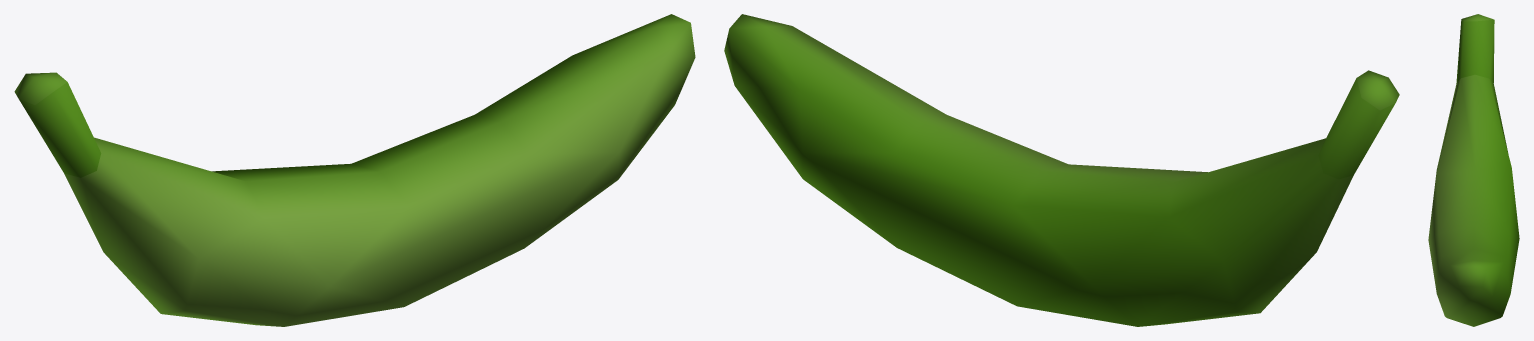
File: bananagreen.glb
The picture shows the model from 3 angles, left to right: view 1: azimuth 30°, elevation 25°; view 2: azimuth 150°, elevation 25°; view 3: azimuth 270°, elevation 25°; orthographic projection. The views are drawn at different scales.
Visible parts, largest first — view 1: bananagreen; view 2: bananagreen; view 3: bananagreen.
Boxes of the visible parts, left/top/right/bottom form: bananagreen: left=14, top=14, right=695, bottom=326; bananagreen: left=724, top=14, right=1399, bottom=326; bananagreen: left=1428, top=14, right=1519, bottom=326.
Size of the model in its own units: 0.6189 by 0.2723 by 0.1185.
1 material, 1 textured.
